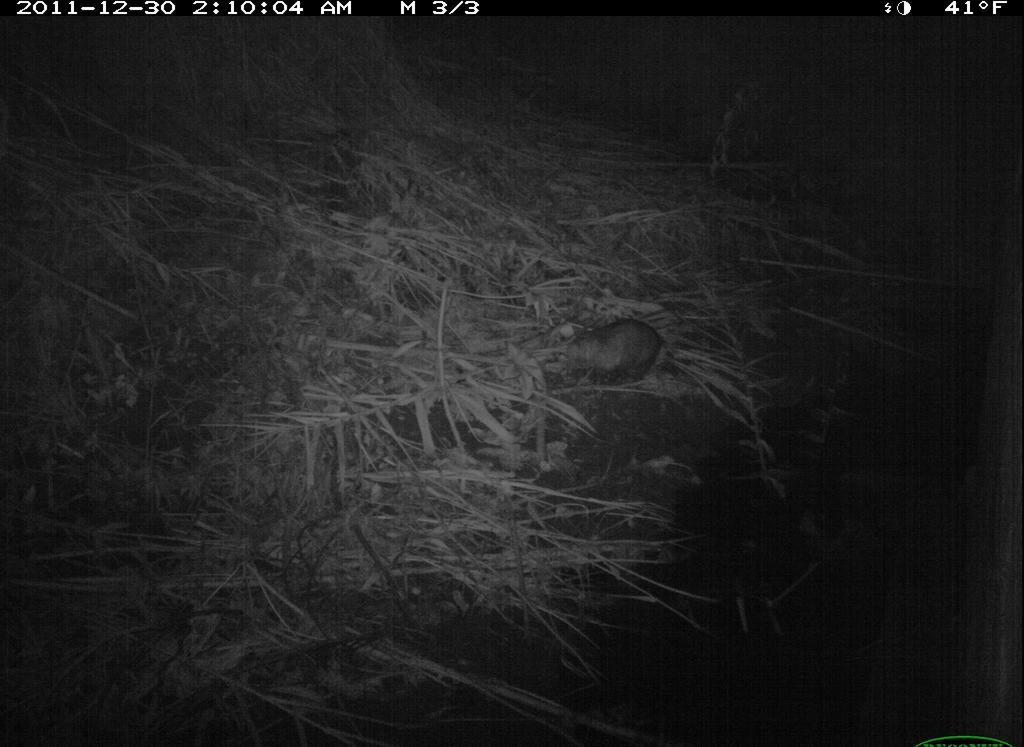opossum: (556, 312, 702, 392)
